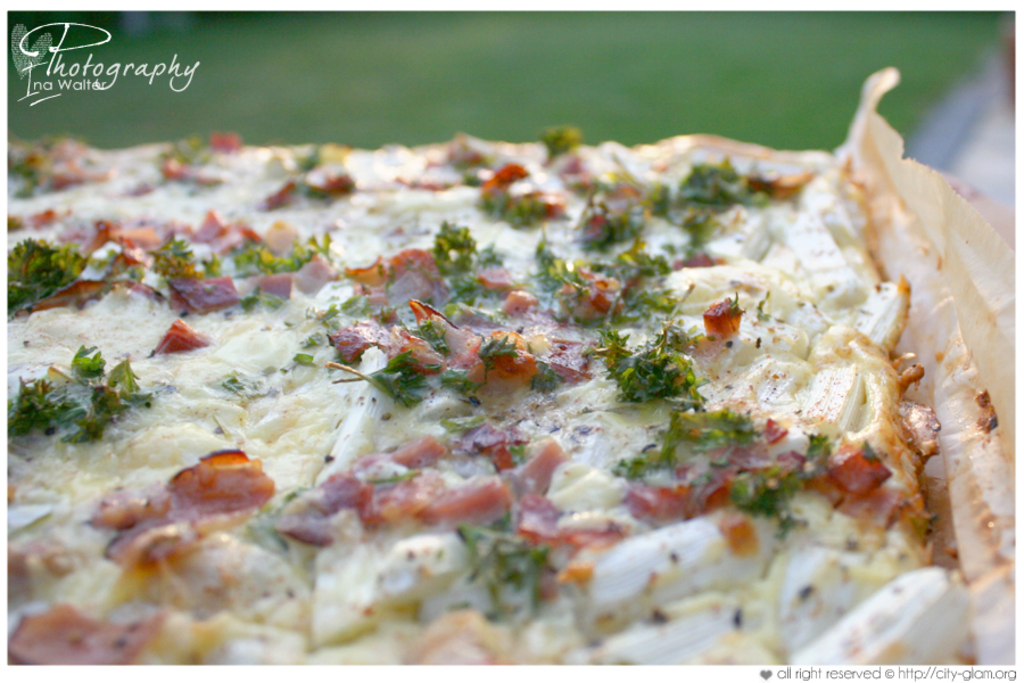Pizza: (0, 86, 996, 683)
